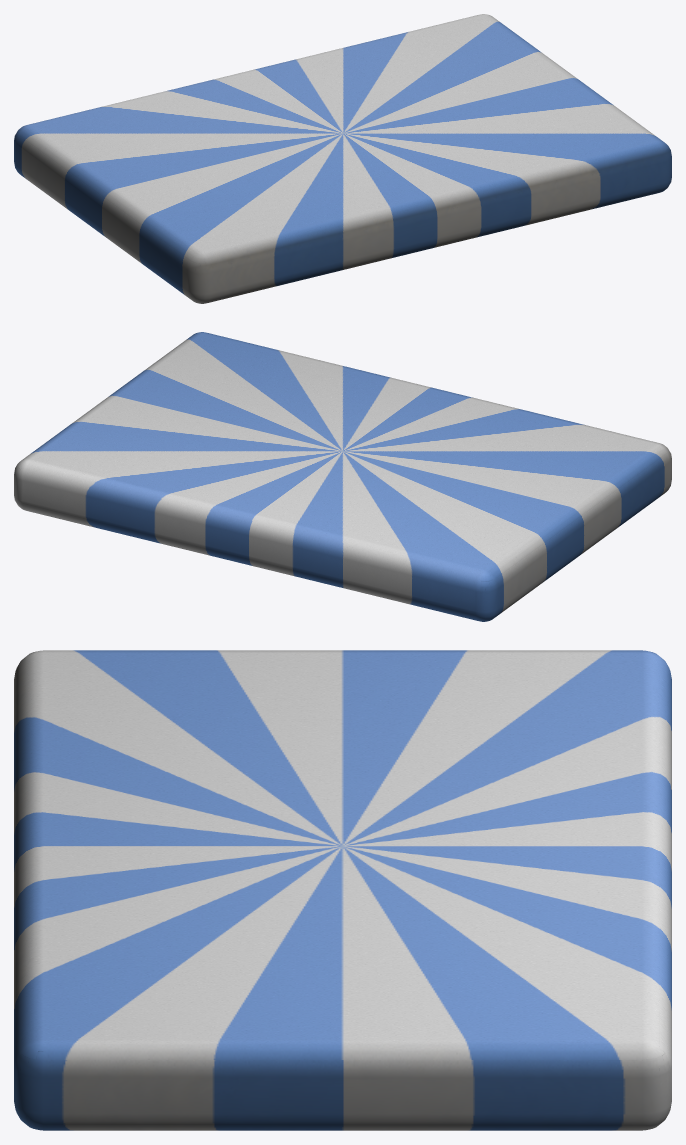
File: balanceboard.dae
3 views of the same model, one above another, from view 1: azimuth 30°, elevation 25°; view 2: azimuth 150°, elevation 25°; view 3: azimuth 270°, elevation 25° (orthographic). The views are drawn at different scales.
Parts seen in each view (by area): view 1: balanceboard.1; view 2: balanceboard.1; view 3: balanceboard.1.
Boxes of the visible parts, left/top/right/bottom form: balanceboard.1: left=14, top=14, right=671, bottom=303; balanceboard.1: left=14, top=332, right=671, bottom=621; balanceboard.1: left=14, top=650, right=671, bottom=1130.
Bounding box in the file's own units: 4.95 × 0.5 × 3.35.
Materials: 1 (1 with a texture image).
